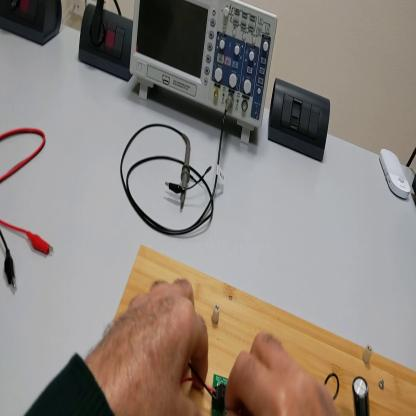hand: (91, 272, 211, 416), (224, 334, 339, 415)
high voltage board: (182, 361, 370, 416)
oscilloscope: (130, 3, 279, 143)
socket: (79, 5, 135, 83), (2, 2, 65, 46)
working area: (113, 244, 416, 414)
